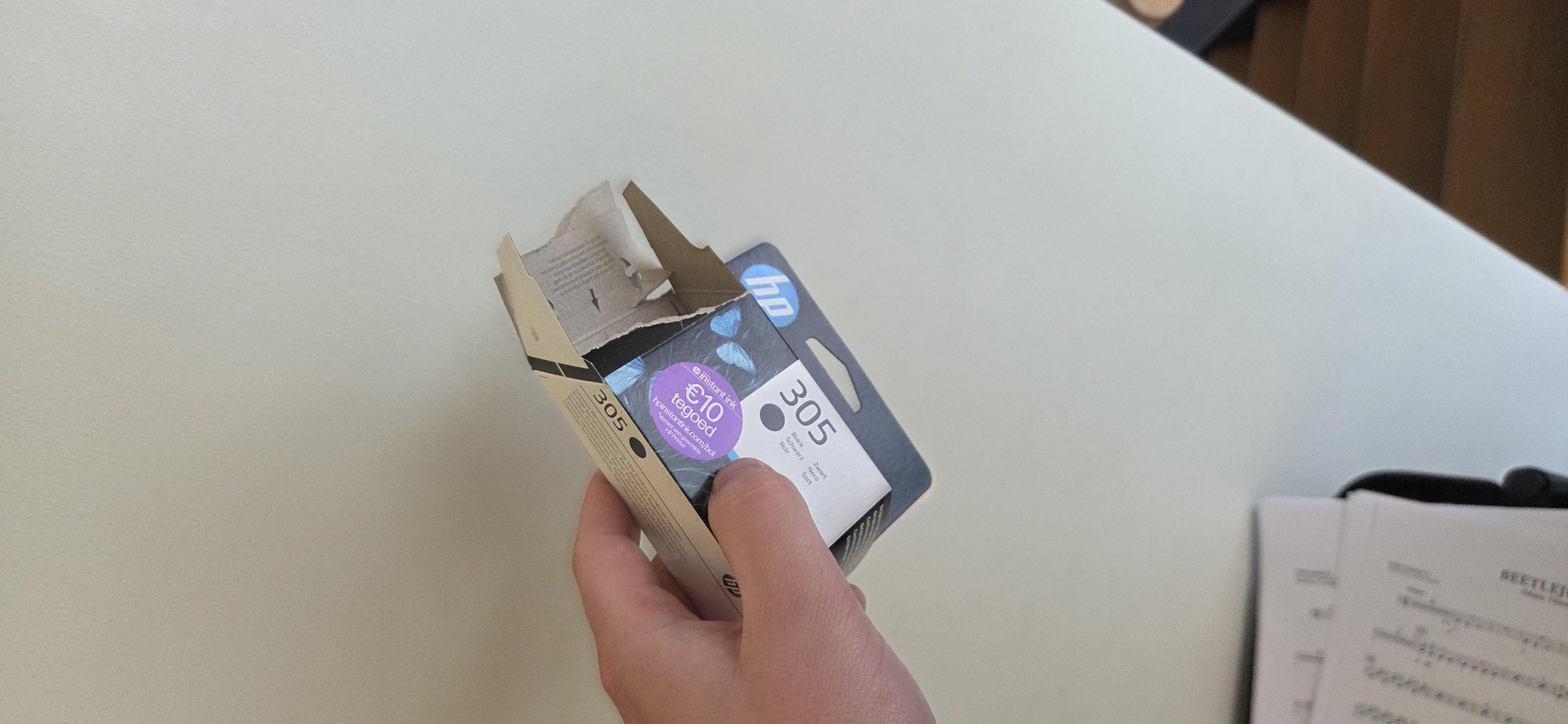Cardboard: (221, 221, 1192, 433)
